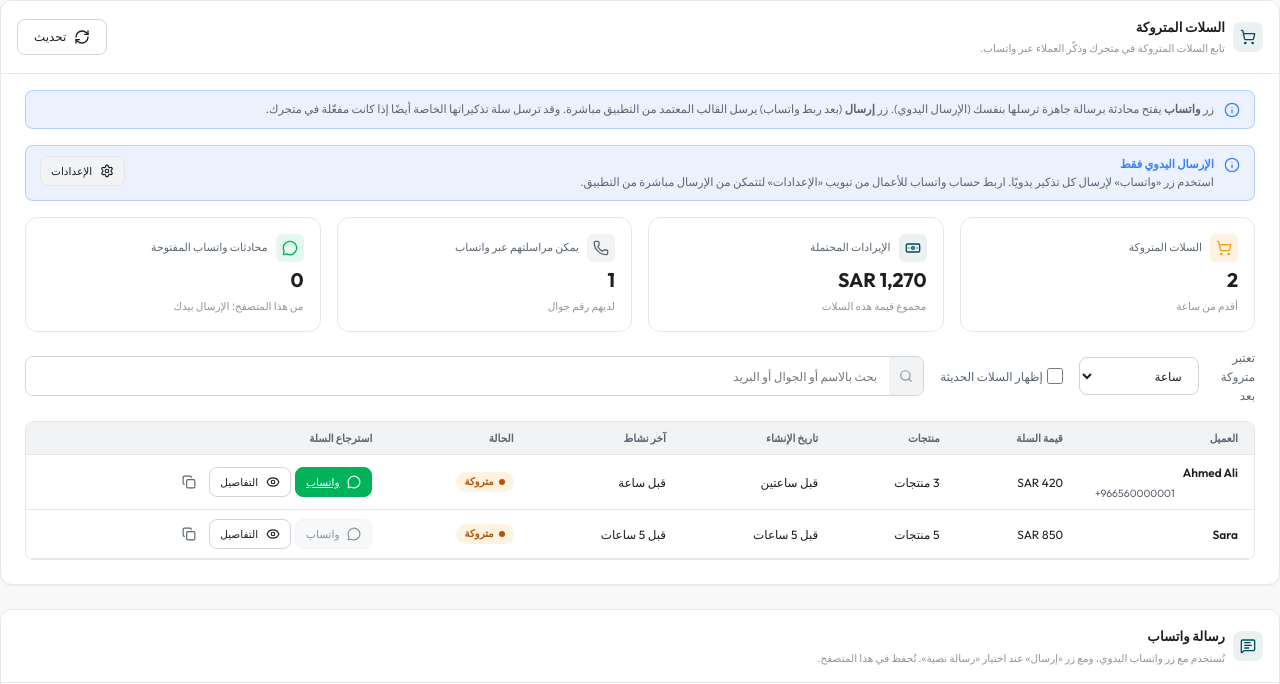
Test: CartRecoveryTab › shows only carts past the threshold and real dashboard numbers
The image size is (1280, 684).
Check: the text "Ahmed Ali" is shown, box top-left (1183, 466), bottom-right (1238, 480)
Check: the text "Sara" is shown, box top-left (1212, 527), bottom-right (1238, 542)
Click the checkbox labelled "إظهار السلات الحديثة" at (1055, 376), box top-left (1047, 368), bottom-right (1063, 384)
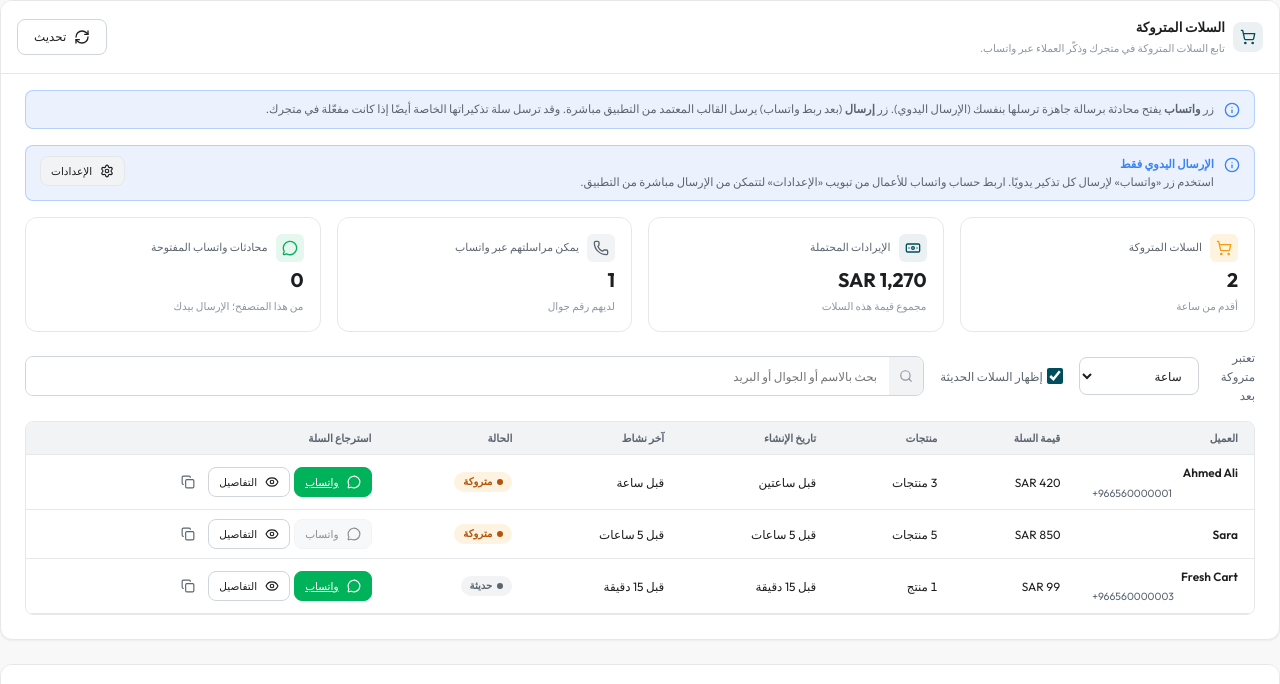
Check: the text "Fresh Cart" is shown, box top-left (1181, 569), bottom-right (1238, 584)
Check: the text "حديثة" is shown, box top-left (461, 576), bottom-right (512, 596)
